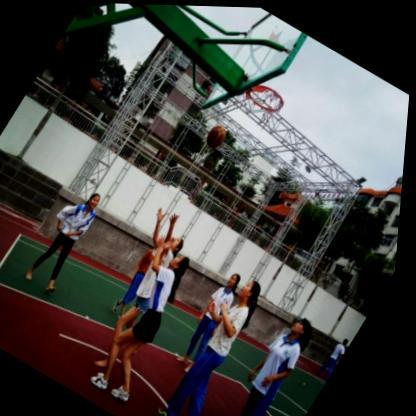basketball: (204, 120, 233, 150)
